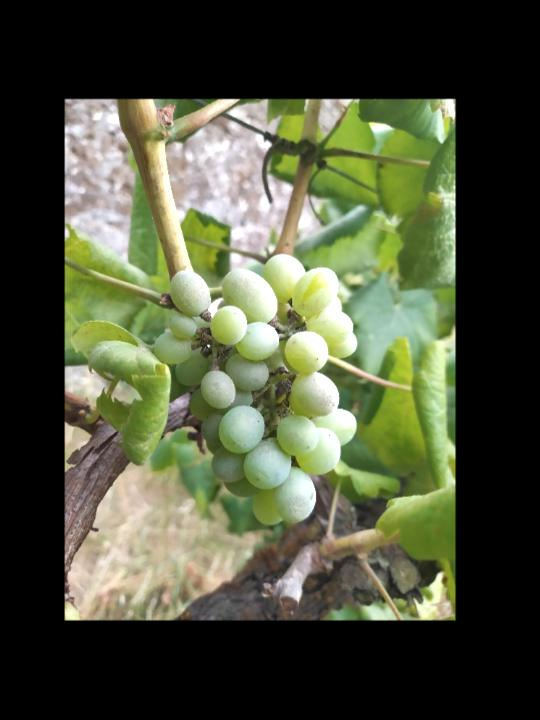grape: (151, 252, 360, 528)
